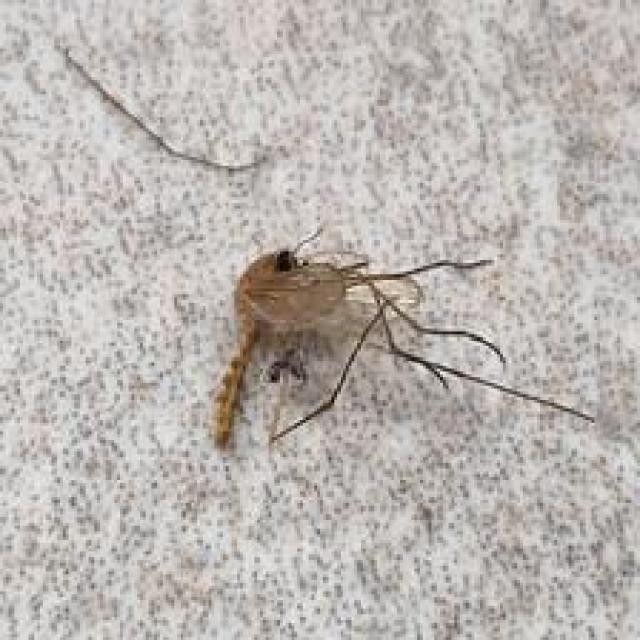Culex: (207, 224, 596, 453)
